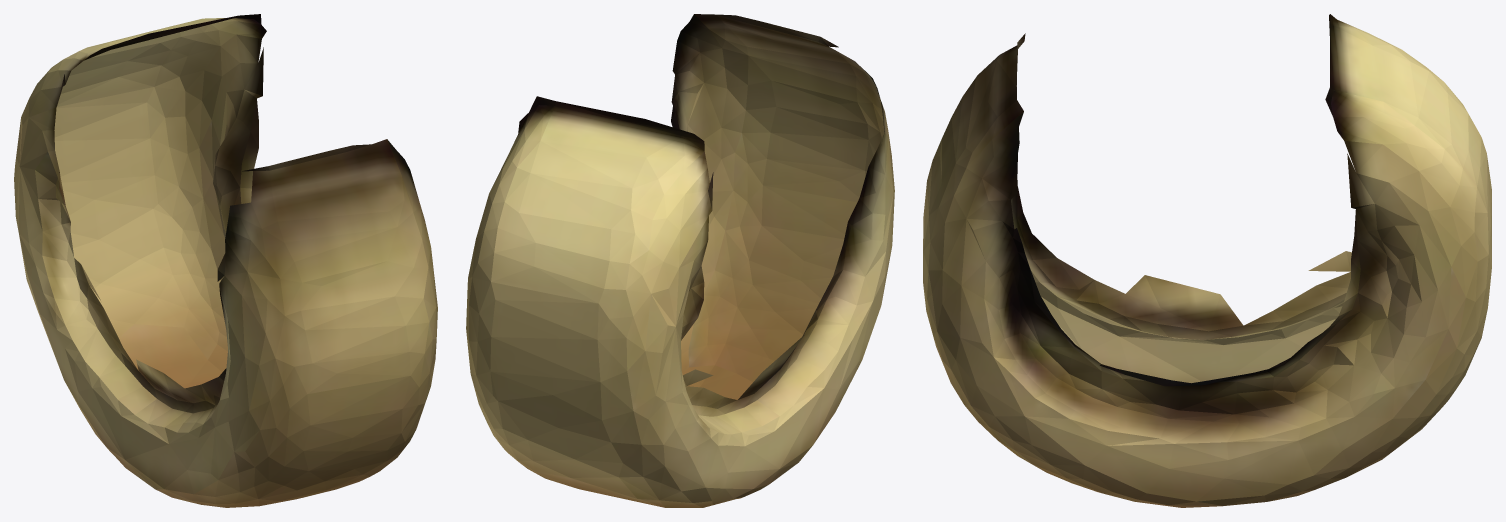
Rendered from wheel_4.glb.
3 renders of one model, left to right at view 1: azimuth 30°, elevation 25°; view 2: azimuth 150°, elevation 25°; view 3: azimuth 270°, elevation 25°, orthographic. The views are drawn at different scales.
Parts seen in each view (by area): view 1: source_surface_0; view 2: source_surface_0; view 3: source_surface_0.
Boxes of the visible parts, x1,y1,x2,y2 form: source_surface_0: (14, 14, 437, 507); source_surface_0: (466, 14, 894, 507); source_surface_0: (923, 14, 1491, 507).
Bounding box in the file's own units: 0.0144 × 0.0254 × 0.0312.
1 material, 1 textured.
